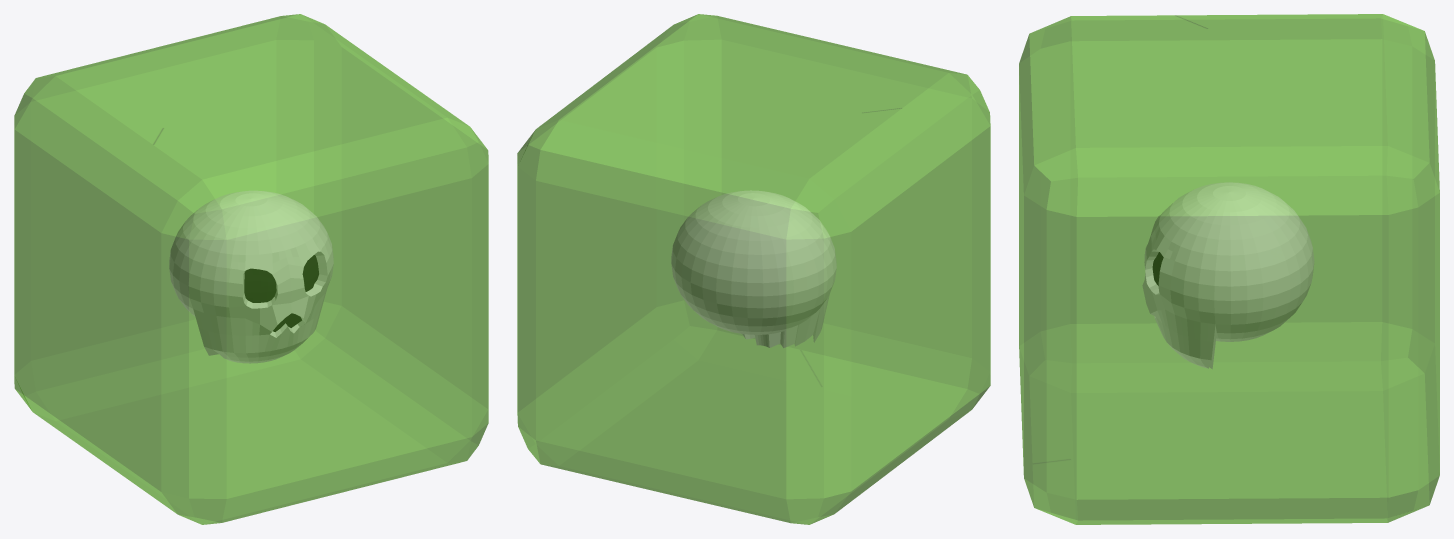
The model's file is blorp.obj.
3 renders of one model, left to right at view 1: azimuth 30°, elevation 25°; view 2: azimuth 150°, elevation 25°; view 3: azimuth 270°, elevation 25°, orthographic. The views are drawn at different scales.
Visible parts, largest first — view 1: Body, Skull; view 2: Body, Skull; view 3: Body, Skull.
Part boxes in pixels (x1,y1,x2,y2): Body: (14,14,488,524); Skull: (169,190,333,363); Body: (517,14,990,524); Skull: (671,190,836,347); Body: (1019,14,1439,524); Skull: (1142,182,1314,368).
Size of the model in its own units: 0.5406 by 0.5343 by 0.5406.
2 materials, 2 textured.
